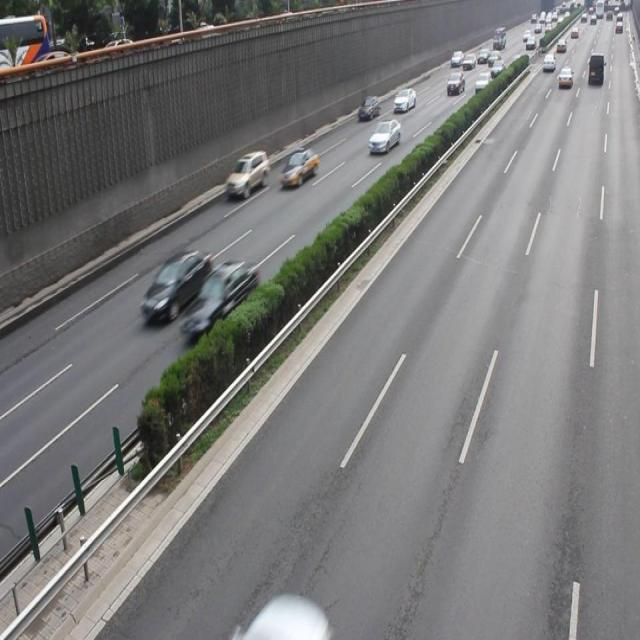car: (178, 261, 258, 338), (140, 249, 213, 323), (226, 150, 269, 198), (278, 147, 318, 185)
